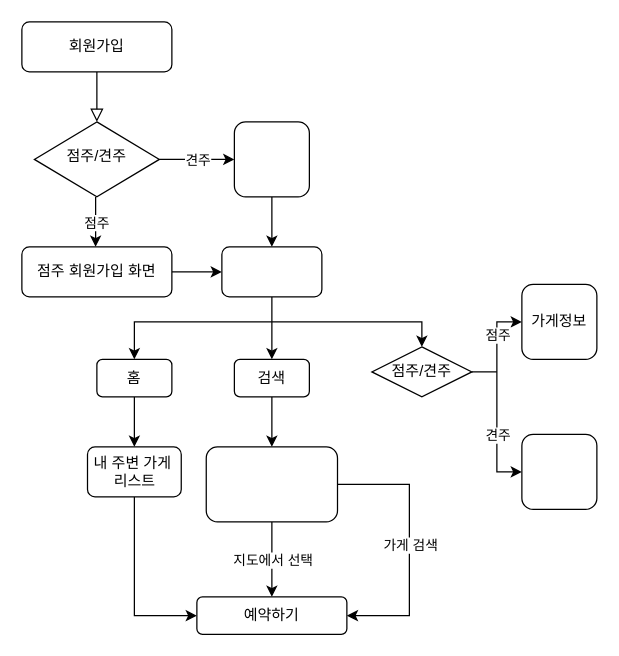
Image size: 619x656. Some labels were removed from this diagram. The shapes that lost their labels are listed below. From the top down, each one's box as (x1, y1, x2, y2) in pixels, then its label:
(233, 121, 309, 197): 견주 회원가입 화면
(221, 246, 322, 297): 시작
(205, 446, 338, 522): 지도 기반 주변 가게, 가게 검색창
(521, 433, 597, 509): 내정보
